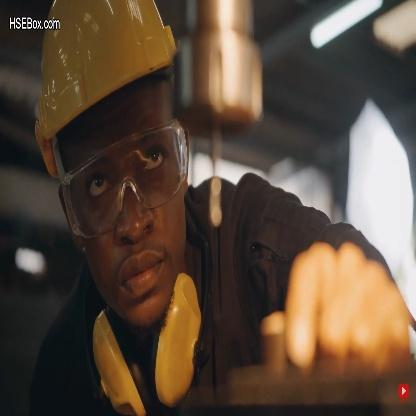helmet: (26, 0, 202, 327)
